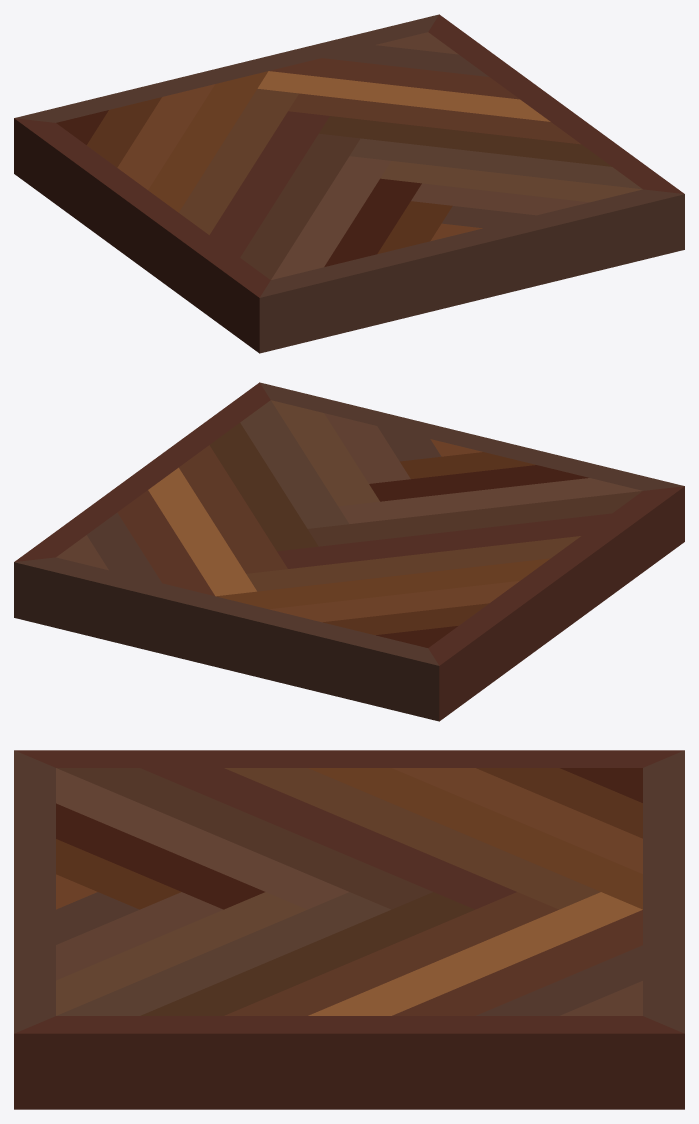
File: Floor_HerringboneC.fbx
The picture shows the model from 3 angles, top to bottom: view 1: azimuth 30°, elevation 25°; view 2: azimuth 150°, elevation 25°; view 3: azimuth 270°, elevation 25°; orthographic projection. The views are drawn at different scales.
Parts seen in each view (by area): view 1: Floor_HerringboneC; view 2: Floor_HerringboneC; view 3: Floor_HerringboneC.
Boxes of the visible parts, <box> form: Floor_HerringboneC: <box>14,14,684,353</box>; Floor_HerringboneC: <box>14,382,684,721</box>; Floor_HerringboneC: <box>14,750,684,1109</box>.
Bounding box in the file's own units: 200 × 25 × 200.
